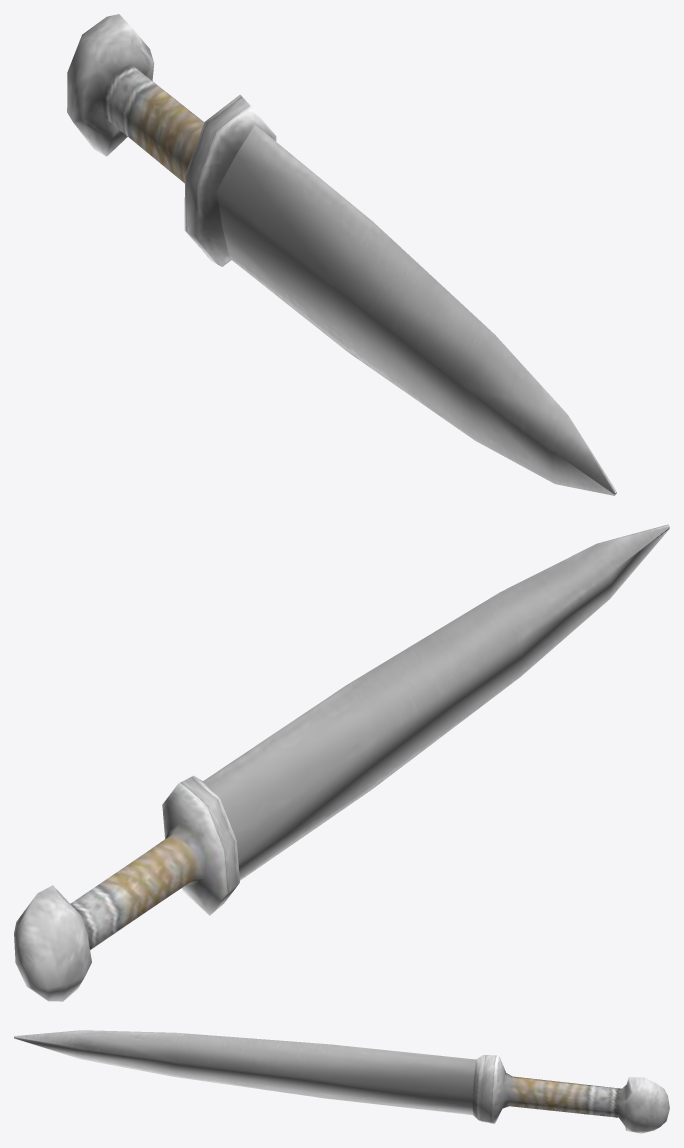
File: rider-weapon-slice-base.glb
3 views of the same model, one above another, from view 1: azimuth 30°, elevation 25°; view 2: azimuth 150°, elevation 25°; view 3: azimuth 270°, elevation 25° (orthographic). The views are drawn at different scales.
Size of the model in its own units: 0.127 by 0.1316 by 0.9164.
Materials: 1 (1 with a texture image).
